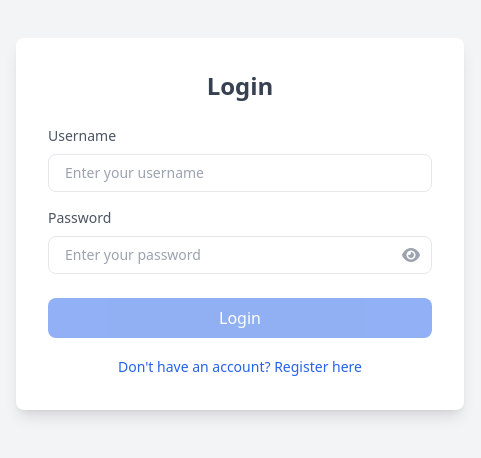
Test: Login Page › Form Validation › should show validation error for invalid username format
Type "user@name!" into the field named "username" at [240, 173], box x1=48 y1=154 x2=432 y2=192
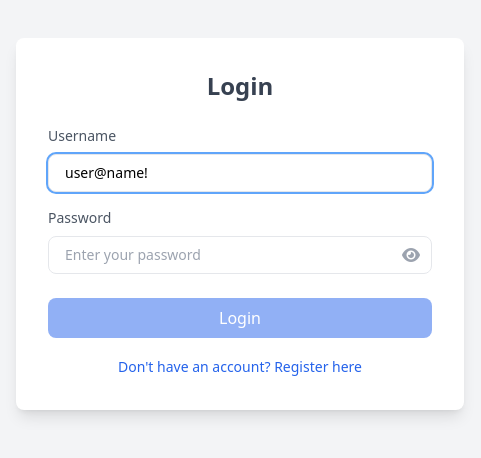
Leave the field named "username", box x1=48 y1=154 x2=432 y2=192
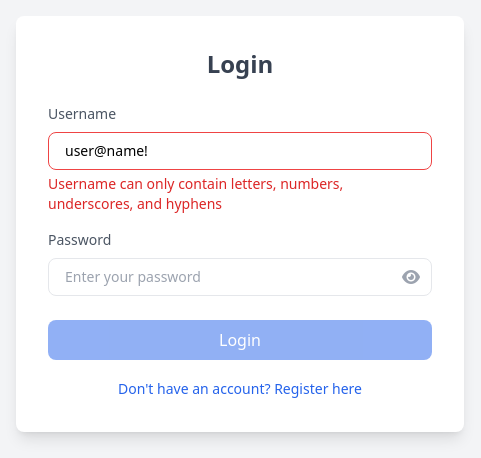
Expected: the text "Username can only contain letters, numbers, underscores, and hyphens" is shown, x1=48 y1=174 x2=343 y2=213
